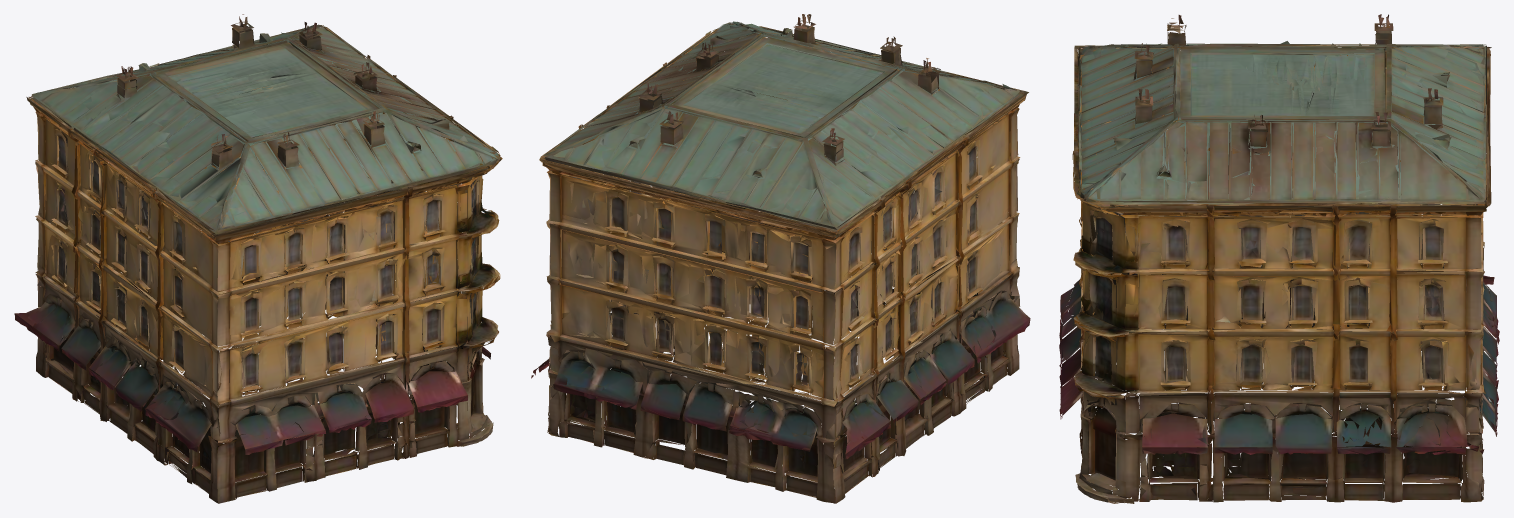
The model's file is ch03_perimeter_corner_arcade.glb.
3 renders of one model, left to right at view 1: azimuth 30°, elevation 25°; view 2: azimuth 150°, elevation 25°; view 3: azimuth 270°, elevation 25°, orthographic. The views are drawn at different scales.
Visible parts, largest first — view 1: material; view 2: material; view 3: material.
Part boxes in pixels (left/top/right/bottom): material: left=14, top=14, right=502, bottom=503; material: left=531, top=14, right=1030, bottom=503; material: left=1059, top=14, right=1499, bottom=503.
Bounding box in the file's own units: 0.7247 × 0.7107 × 0.7882.
Materials: 1 (1 with a texture image).
